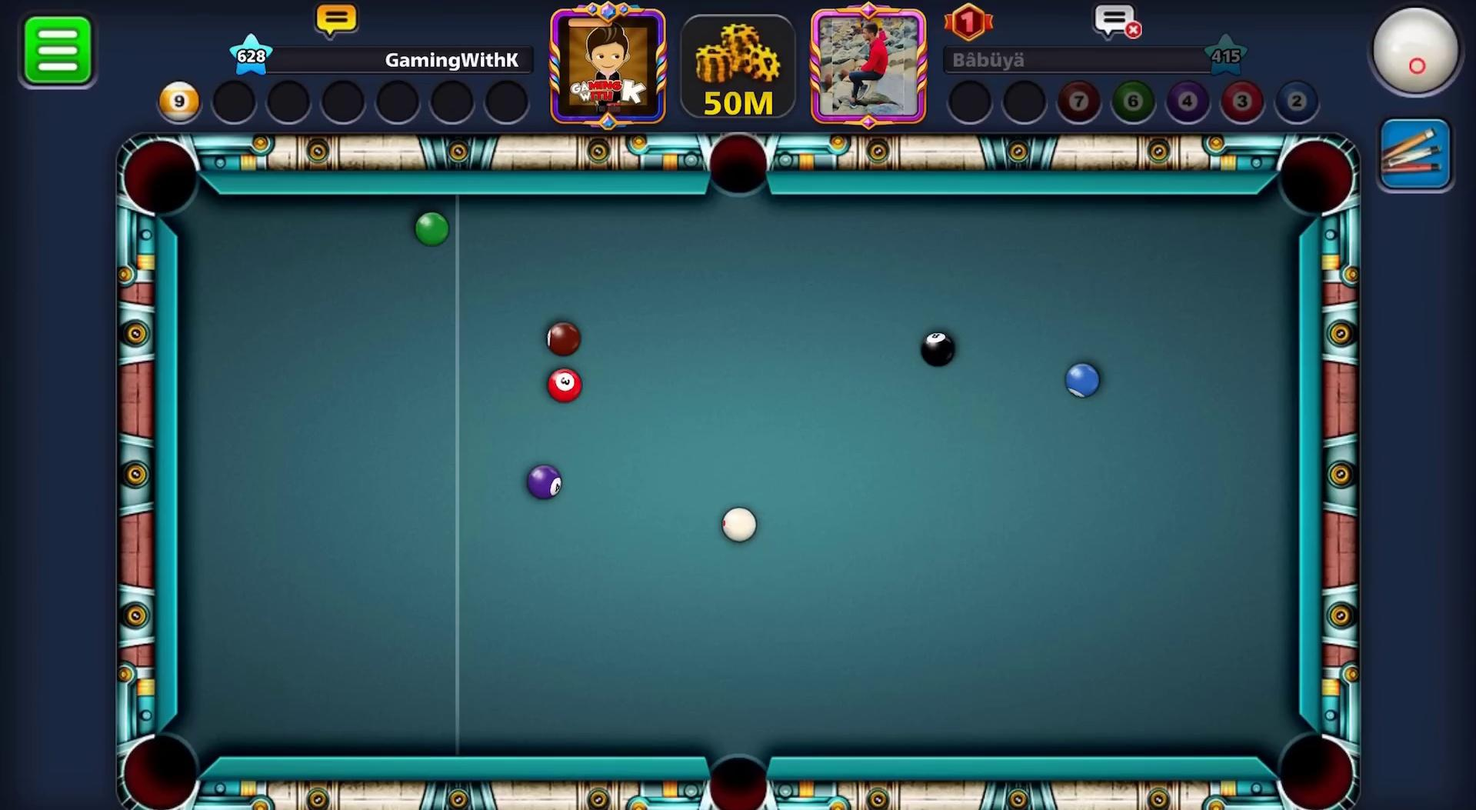Ball: (530, 358, 598, 412), (516, 455, 572, 508), (532, 315, 585, 363), (1061, 359, 1105, 408), (916, 329, 961, 372), (406, 210, 448, 249)
Hole: (1254, 706, 1371, 809), (103, 709, 222, 809), (105, 124, 211, 228), (1266, 126, 1364, 229), (683, 714, 779, 809), (701, 119, 788, 218)
Play_Area: (183, 195, 1298, 759)
Spin: (1363, 0, 1475, 111)
White: (717, 502, 761, 549)
